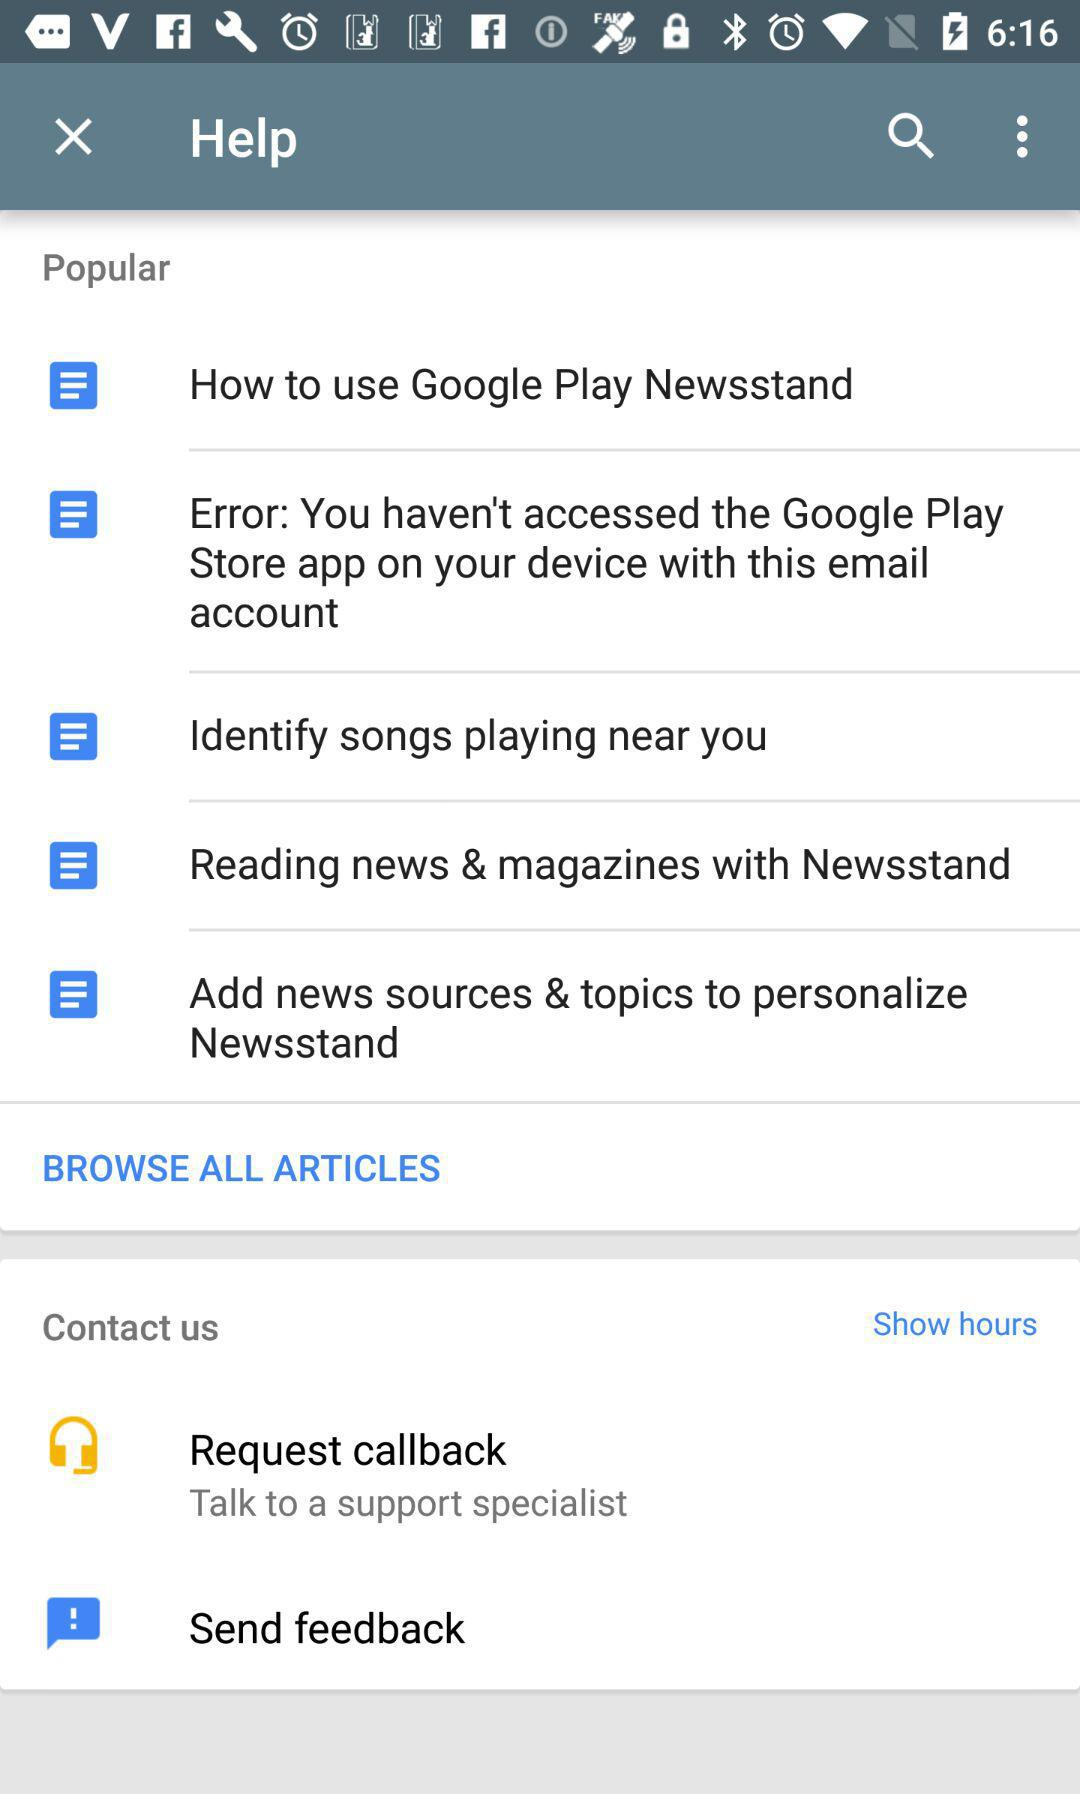Icon: (47, 1595, 102, 1652), (49, 970, 100, 1020), (50, 841, 99, 891), (50, 712, 99, 762), (50, 361, 99, 411), (50, 491, 99, 539), (887, 111, 935, 160), (54, 118, 95, 158), (1016, 114, 1030, 160)
Image: (49, 1415, 100, 1476)
Text: (190, 496, 1004, 630), (190, 975, 969, 1060), (191, 846, 1010, 889), (191, 366, 852, 410), (192, 718, 766, 761), (190, 1486, 628, 1525), (192, 1433, 509, 1476), (191, 1609, 466, 1647), (192, 117, 299, 170), (44, 1312, 220, 1342), (44, 252, 170, 290), (872, 1310, 1038, 1337)
TextButton: (1, 1102, 1080, 1237)
Toolbar: (1, 65, 1080, 210)
UpperTaskBar: (1, 1, 1080, 64)
